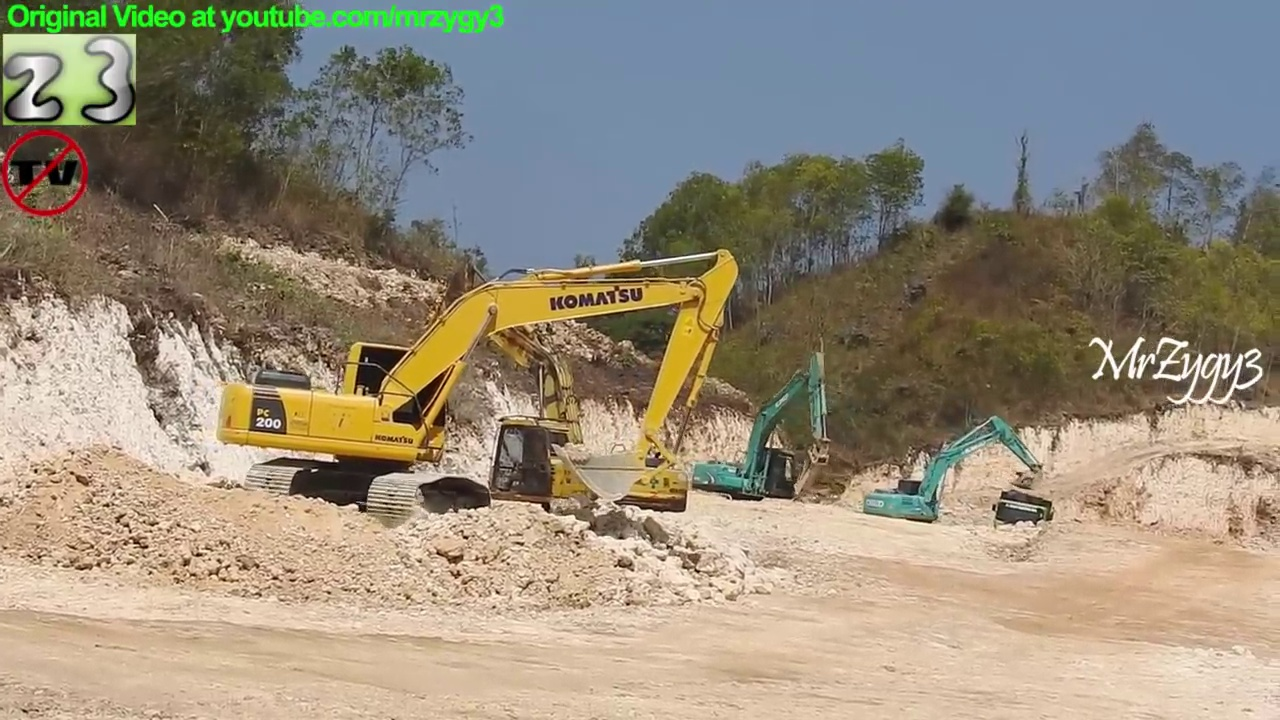excavator: (215, 243, 746, 534), (378, 257, 693, 531), (681, 344, 838, 520), (861, 410, 1047, 543)
truck: (988, 483, 1060, 554)
